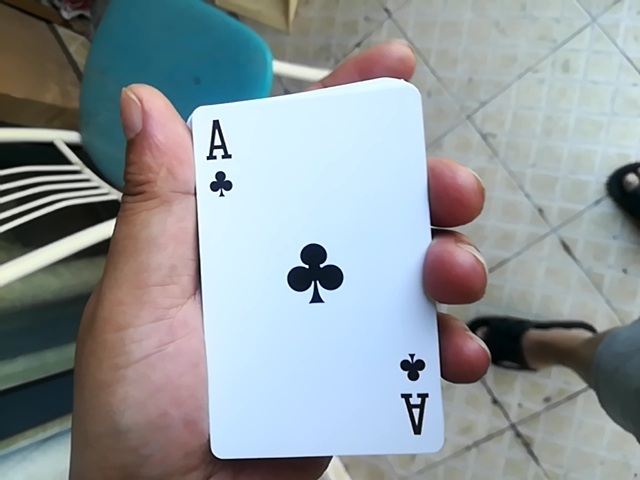mh a: (185, 73, 433, 468)
